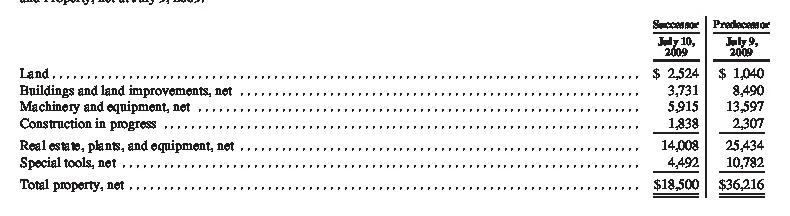table: (0, 0, 790, 216)
